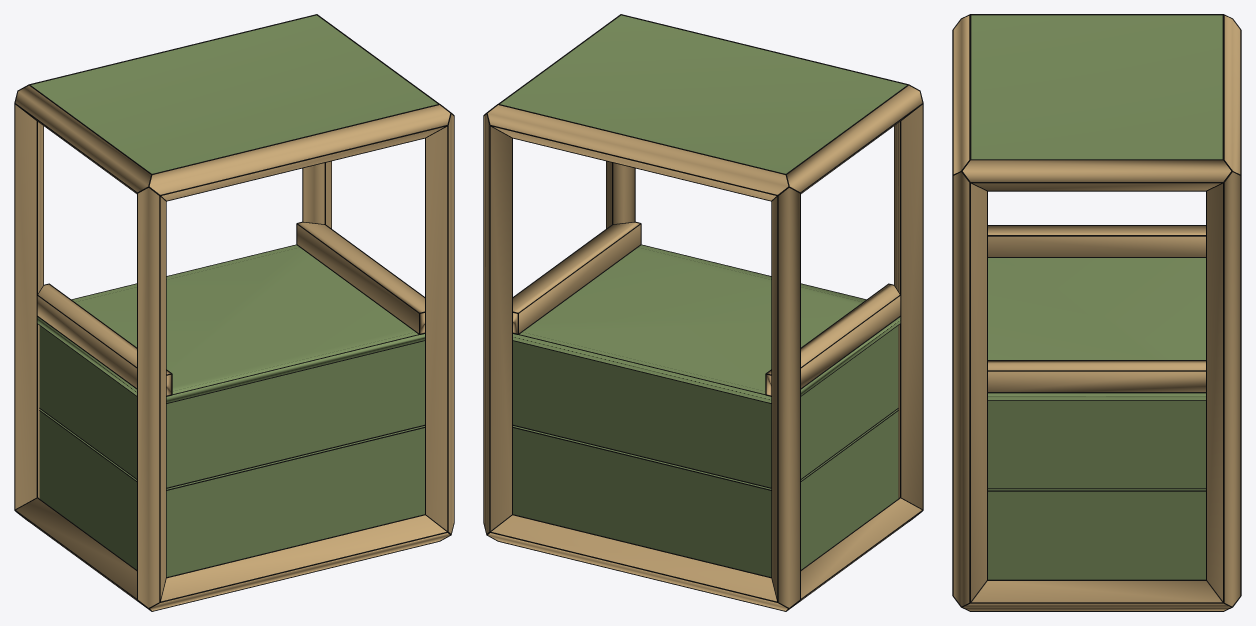
Rendered from meuble-cuisine-600.glb.
3 renders of one model, left to right at view 1: azimuth 30°, elevation 25°; view 2: azimuth 150°, elevation 25°; view 3: azimuth 270°, elevation 25°, orthographic. The views are drawn at different scales.
Parts seen in each view (by area): view 1: panneau-dessus_exterieur, mod-drawer-0, mod-drawer-1, tablette-plate-mod-0, arete-Z0, arete-Z1, arete-Z2, arete-X2, arete-X0, tablette-traverse-right-mod-0, tablette-traverse-left-mod-0, arete-Y2 (+15 smaller); view 2: panneau-dessus_exterieur, mod-drawer-0, mod-drawer-1, tablette-plate-mod-0, arete-Z2, arete-Z3, arete-Z0, arete-X3, arete-X1, tablette-traverse-right-mod-0, tablette-traverse-left-mod-0, arete-Y2 (+15 smaller); view 3: panneau-dessus_exterieur, tablette-plate-mod-0, mod-drawer-0, mod-drawer-1, arete-Z1, arete-Z3, arete-Y3, arete-Y1, tablette-traverse-right-mod-0, tablette-traverse-left-mod-0, arete-X2, arete-X3 (+11 smaller).
Boxes of the visible parts, bbox=[...] form: panneau-dessus_exterieur: bbox=[31, 15, 437, 173]; mod-drawer-0: bbox=[39, 409, 424, 576]; mod-drawer-1: bbox=[39, 326, 424, 487]; tablette-plate-mod-0: bbox=[37, 245, 424, 402]; arete-Z0: bbox=[138, 188, 165, 607]; arete-Z1: bbox=[426, 114, 453, 533]; arete-Z2: bbox=[15, 105, 43, 508]; arete-X2: bbox=[149, 105, 450, 200]; arete-X0: bbox=[150, 515, 449, 610]; tablette-traverse-right-mod-0: bbox=[297, 222, 424, 333]; tablette-traverse-left-mod-0: bbox=[37, 284, 171, 395]; arete-Y2: bbox=[15, 85, 150, 193]; panneau-dessus_exterieur: bbox=[500, 15, 906, 173]; mod-drawer-0: bbox=[513, 409, 898, 576]; mod-drawer-1: bbox=[513, 326, 898, 487]; tablette-plate-mod-0: bbox=[513, 245, 900, 402]; arete-Z2: bbox=[772, 188, 799, 607]; arete-Z3: bbox=[484, 114, 511, 533]; arete-Z0: bbox=[894, 105, 922, 508]; arete-X3: bbox=[487, 105, 788, 200]; arete-X1: bbox=[488, 515, 787, 610]; tablette-traverse-right-mod-0: bbox=[513, 222, 640, 333]; tablette-traverse-left-mod-0: bbox=[766, 284, 900, 395]; arete-Y2: bbox=[787, 85, 922, 193]; panneau-dessus_exterieur: bbox=[971, 15, 1222, 159]; tablette-plate-mod-0: bbox=[988, 258, 1205, 399]; mod-drawer-0: bbox=[988, 489, 1205, 579]; mod-drawer-1: bbox=[988, 400, 1205, 488]; arete-Z1: bbox=[953, 172, 986, 606]; arete-Z3: bbox=[1207, 172, 1240, 606]; arete-Y3: bbox=[963, 160, 1230, 190]; arete-Y1: bbox=[963, 581, 1230, 610]; tablette-traverse-right-mod-0: bbox=[988, 361, 1205, 391]; tablette-traverse-left-mod-0: bbox=[988, 226, 1205, 256]; arete-X2: bbox=[953, 16, 969, 173]; arete-X3: bbox=[1224, 16, 1240, 173].
Bounding box in the file's own units: 0.6309 × 0.8309 × 0.4809.
